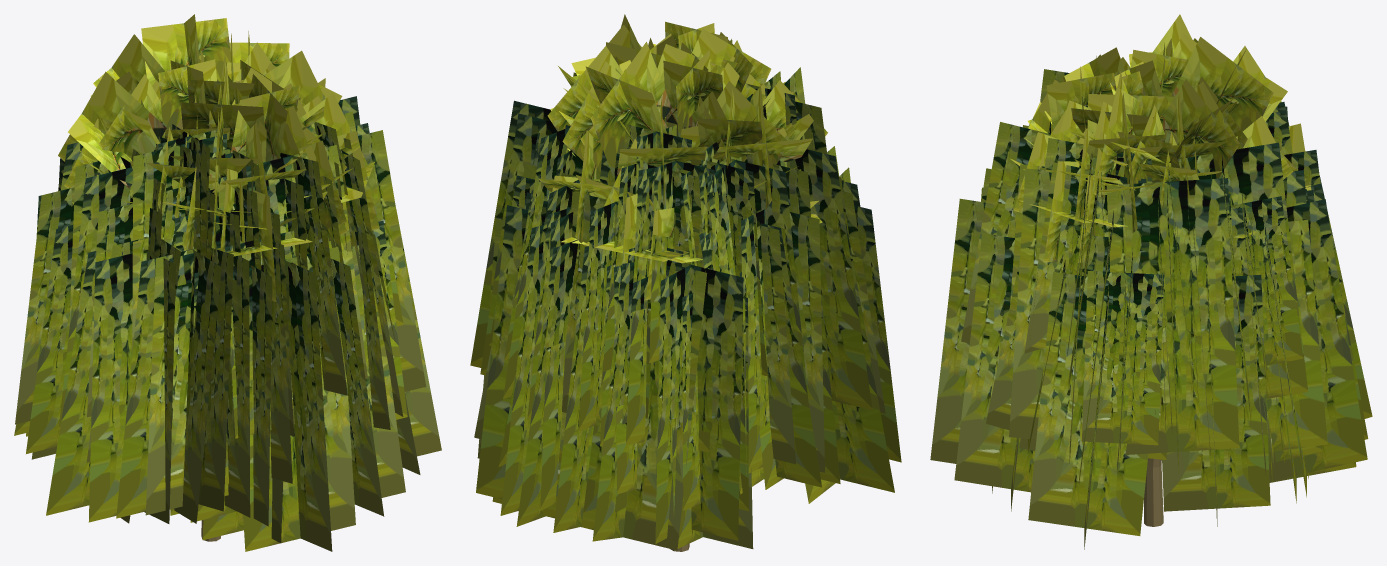
The model's file is category_mesh_tree_5_v1.glb.
The picture shows the model from 3 angles, left to right: view 1: azimuth 30°, elevation 25°; view 2: azimuth 150°, elevation 25°; view 3: azimuth 270°, elevation 25°; orthographic projection. The views are drawn at different scales.
Visible parts, largest first — view 1: category_mesh_tree_5_v1; view 2: category_mesh_tree_5_v1; view 3: category_mesh_tree_5_v1.
Boxes of the visible parts, left/top/right/bottom form: category_mesh_tree_5_v1: left=14, top=14, right=441, bottom=551; category_mesh_tree_5_v1: left=470, top=14, right=901, bottom=551; category_mesh_tree_5_v1: left=930, top=14, right=1372, bottom=549.
Size of the model in its own units: 10.15 by 12.81 by 10.47.
1 material, 1 textured.
